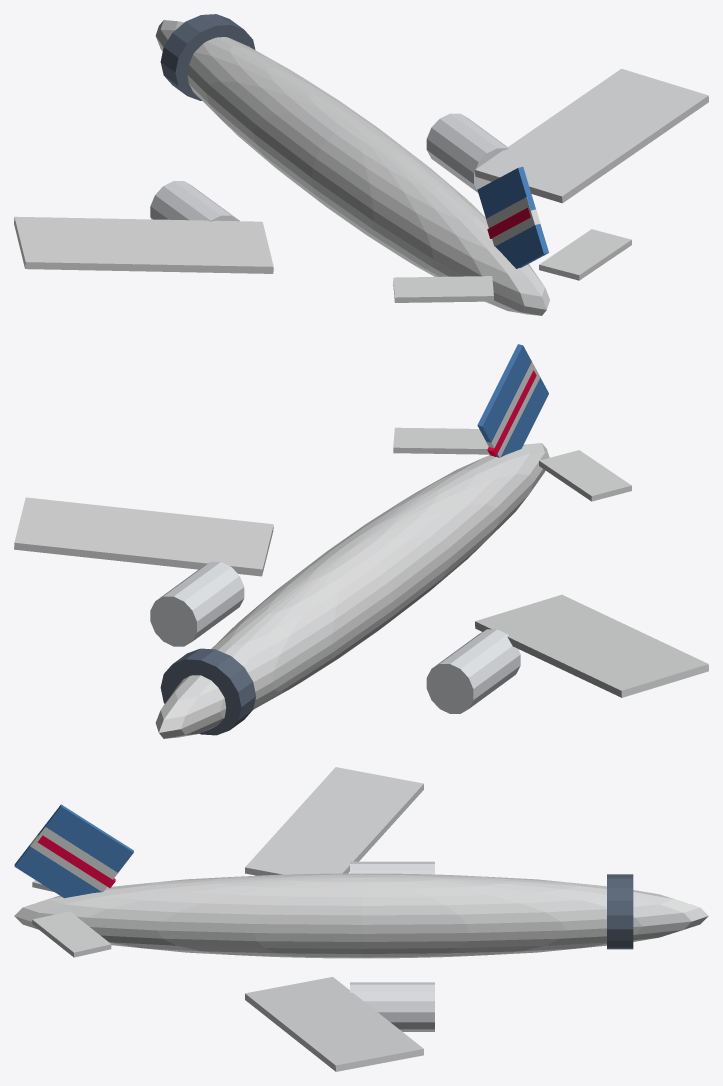
Rendered from airliner.glb.
3 renders of one model, top to bottom at view 1: azimuth 30°, elevation 25°; view 2: azimuth 150°, elevation 25°; view 3: azimuth 270°, elevation 25°, orthographic. The views are drawn at different scales.
Parts seen in each view (by area): view 1: airliner; view 2: airliner; view 3: airliner.
Part boxes in pixels (x1,y1,x2,y2): airliner: [14, 14, 708, 315]; airliner: [14, 344, 708, 738]; airliner: [14, 767, 708, 1071].
Bounding box in the file's own units: 9.16 × 2.34 × 9.
